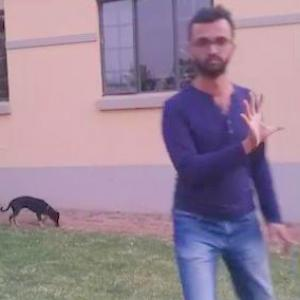follow_hand: (232, 83, 288, 148)
